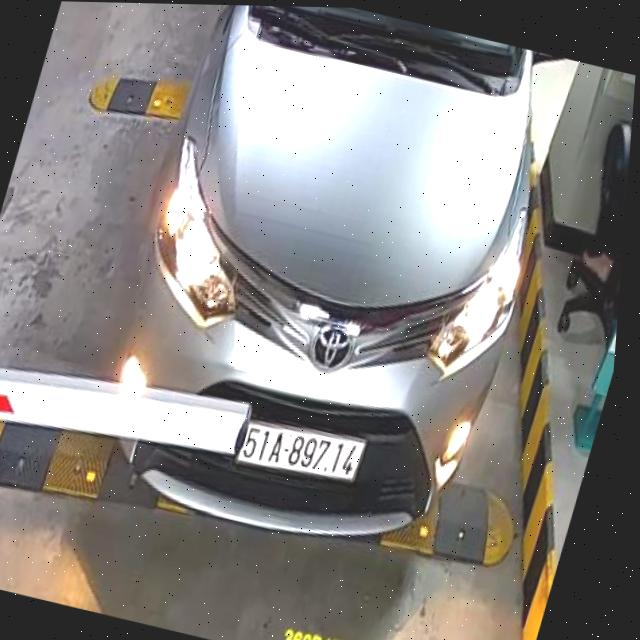car: (43, 2, 592, 573)
plate: (227, 413, 368, 488)
